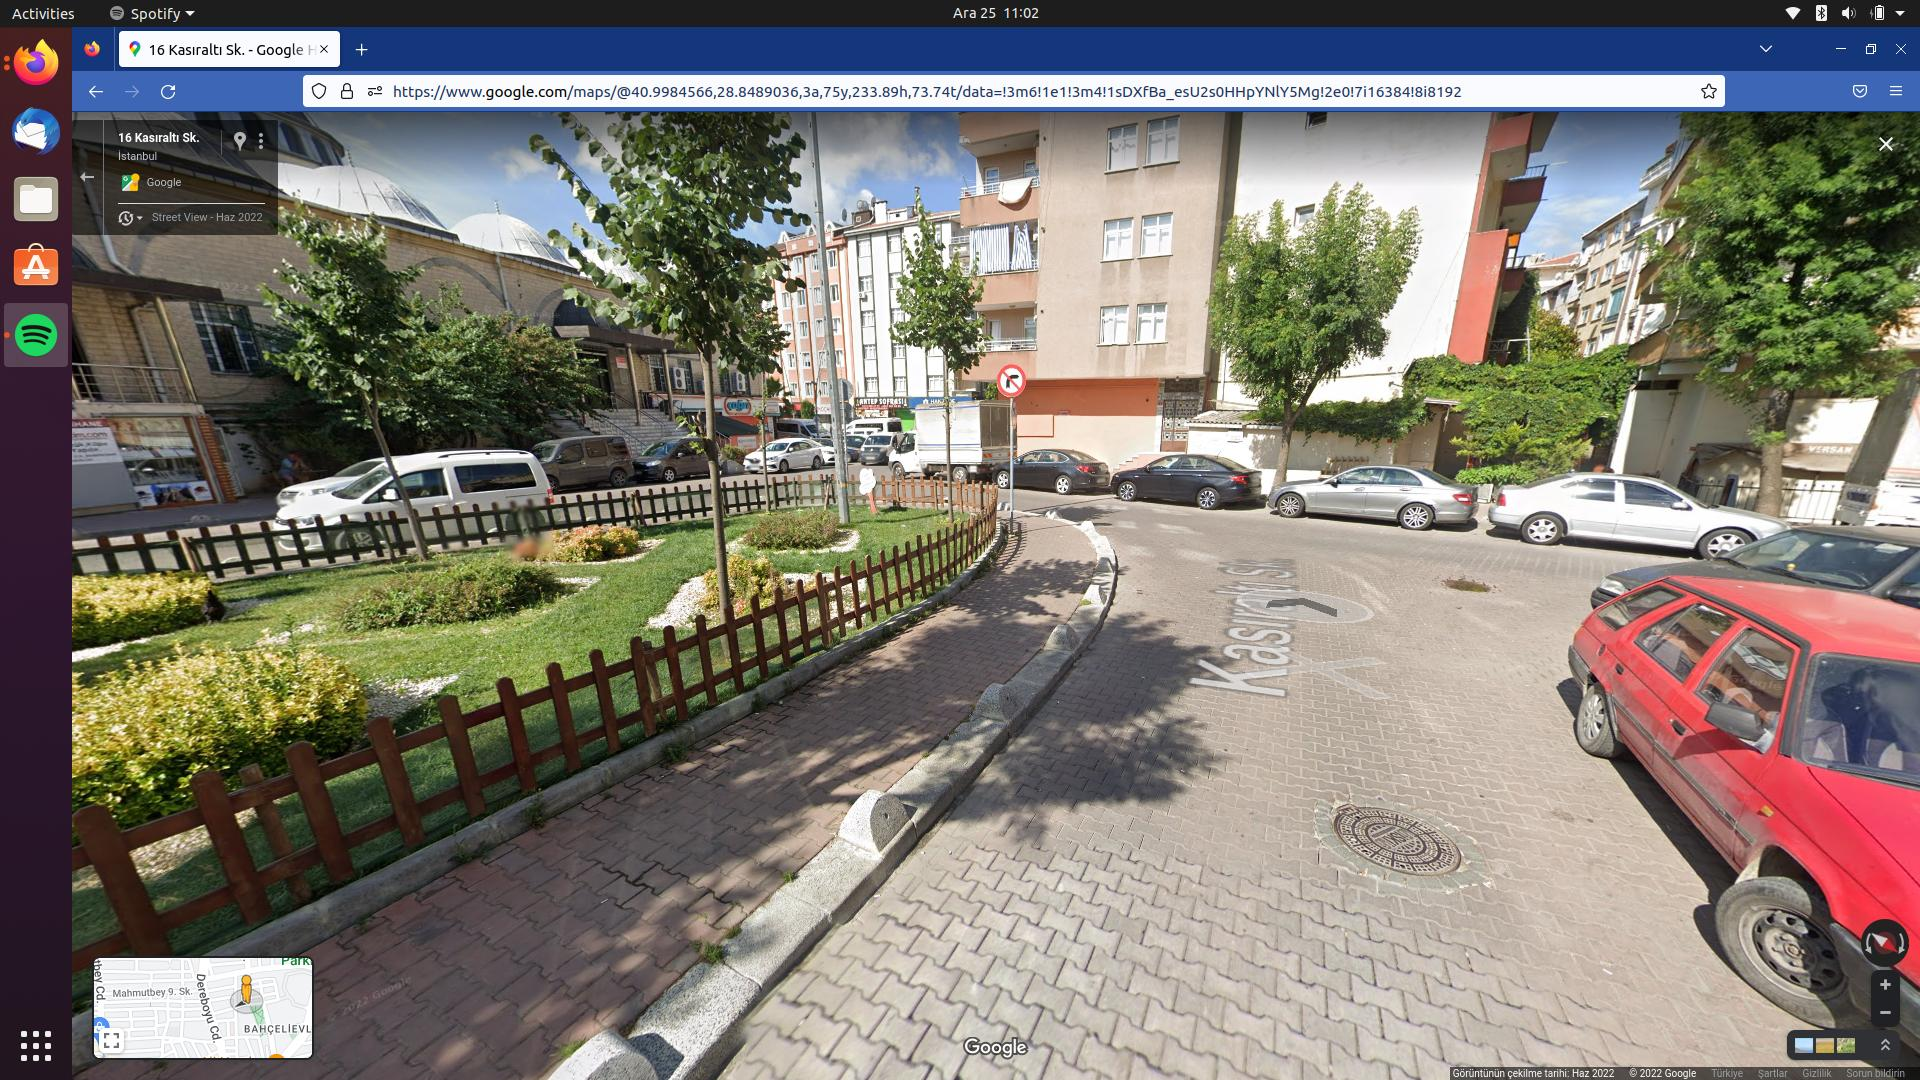leftturnsareforbidden: (997, 363, 1026, 398)
